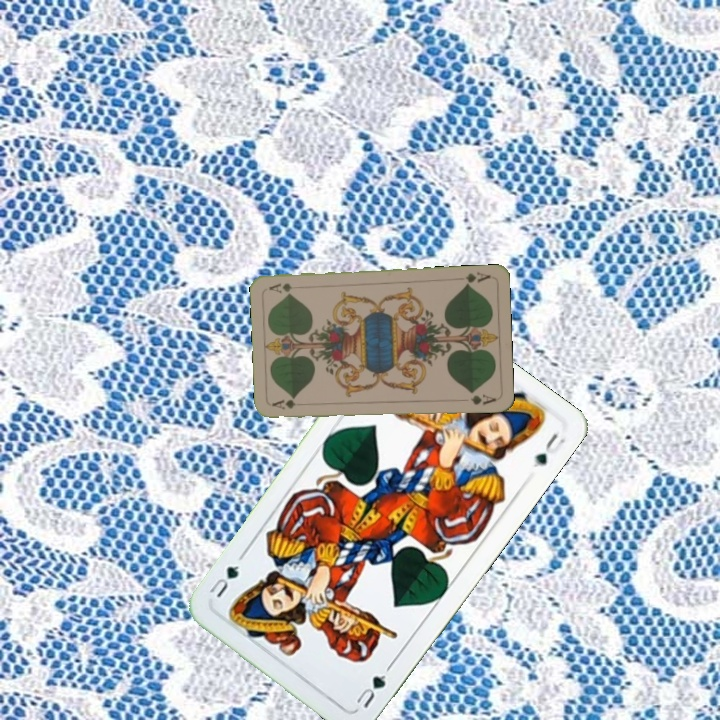GA: (461, 268, 493, 288), (269, 396, 305, 412)
GU: (350, 661, 394, 711)
